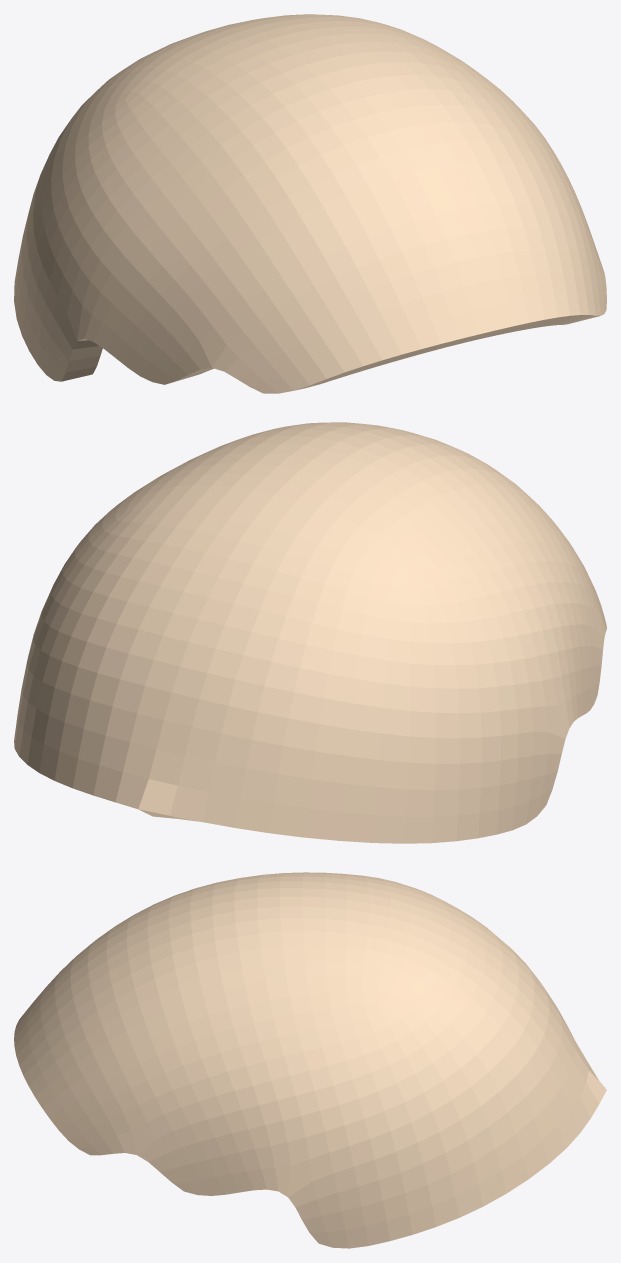
The model's file is TopOfHead.fbx.
3 views of the same model, one above another, from view 1: azimuth 30°, elevation 25°; view 2: azimuth 150°, elevation 25°; view 3: azimuth 270°, elevation 25° (orthographic). The views are drawn at different scales.
Parts seen in each view (by area): view 1: 1_GEO-head_male_primitive_realistic.001; view 2: 1_GEO-head_male_primitive_realistic.001; view 3: 1_GEO-head_male_primitive_realistic.001.
Part boxes in pixels (x1,y1,x2,y2): 1_GEO-head_male_primitive_realistic.001: (14, 14, 606, 393); 1_GEO-head_male_primitive_realistic.001: (14, 422, 606, 843); 1_GEO-head_male_primitive_realistic.001: (14, 872, 606, 1248).
Bounding box in the file's own units: 0.1615 × 0.0905 × 0.1945.
